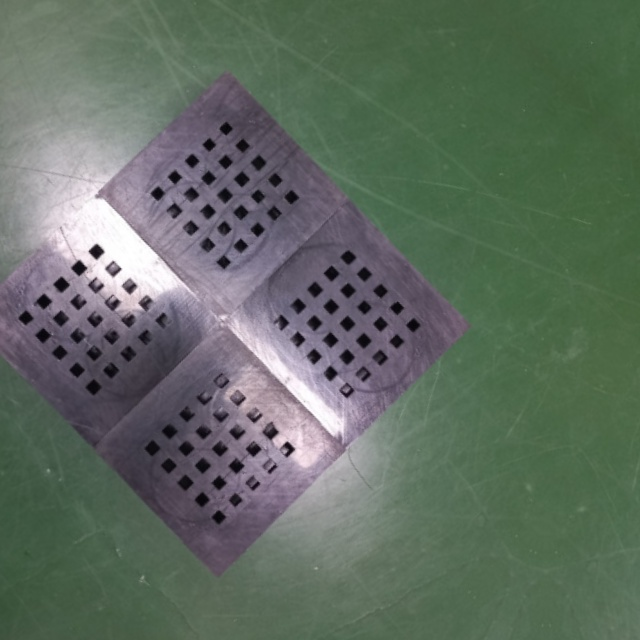pallet: (0, 57, 483, 586)
